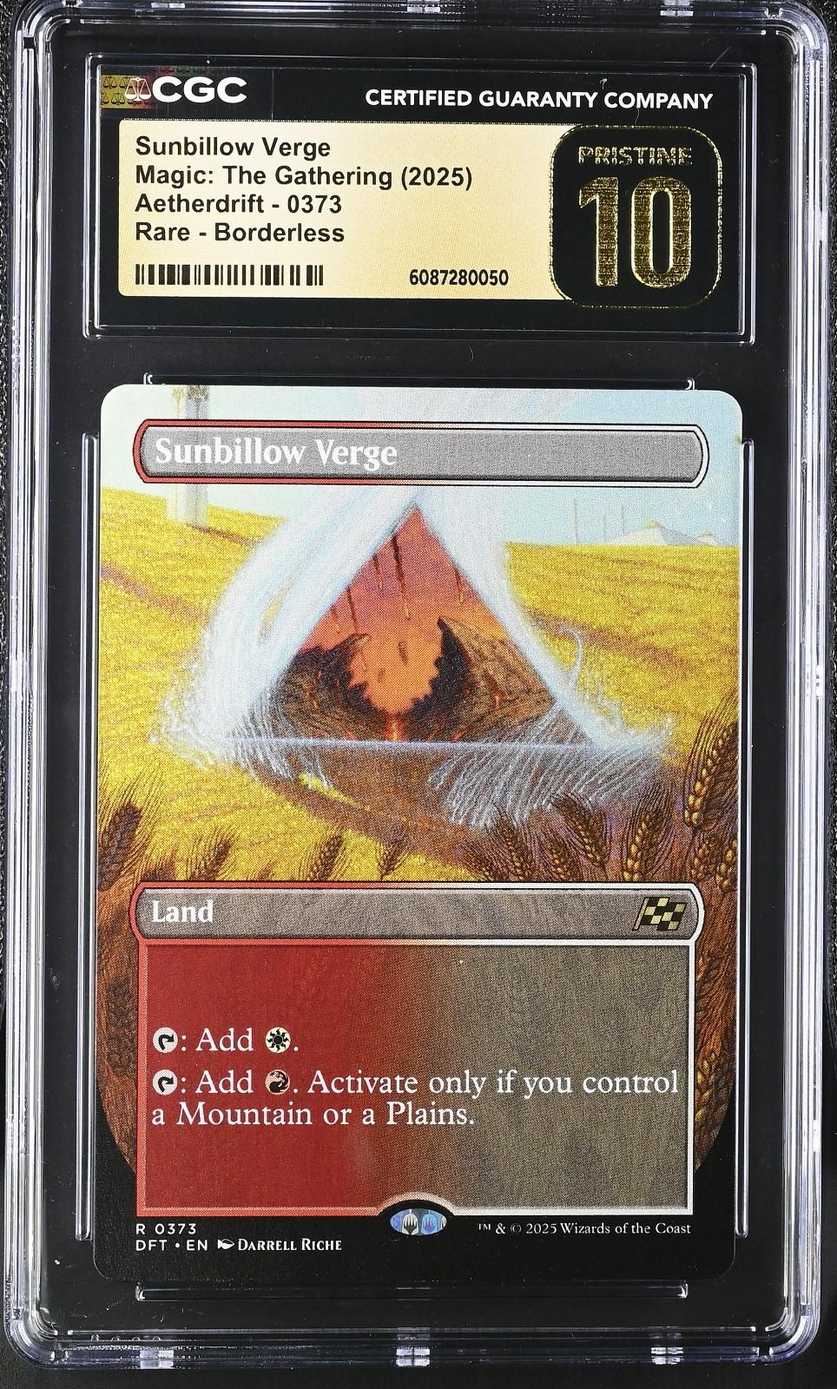card-2UtV: (93, 384, 742, 1282)
